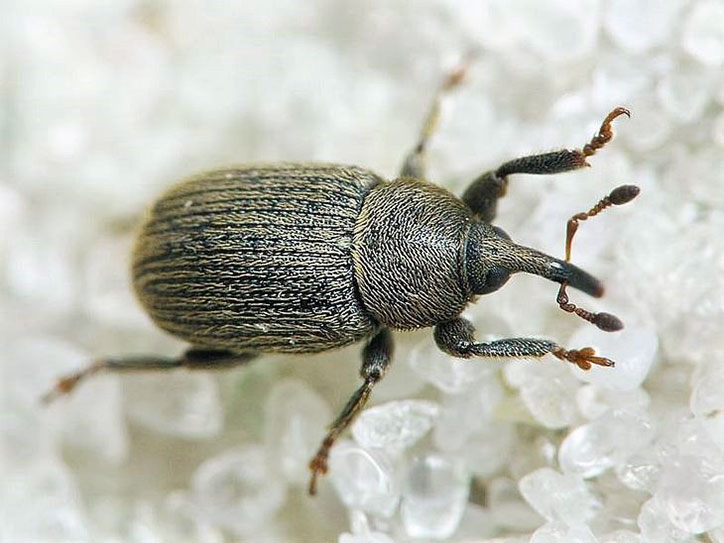dolgonosik: (46, 121, 658, 508)
